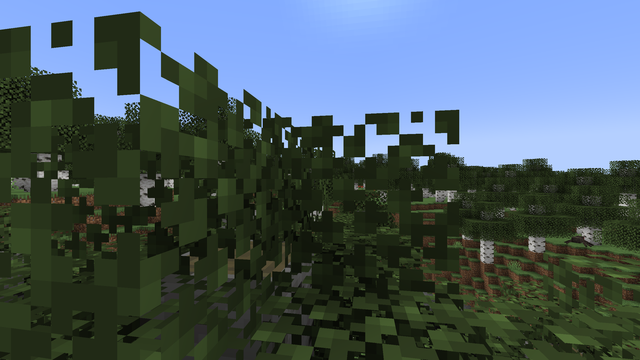araignees: (565, 234, 592, 246)
